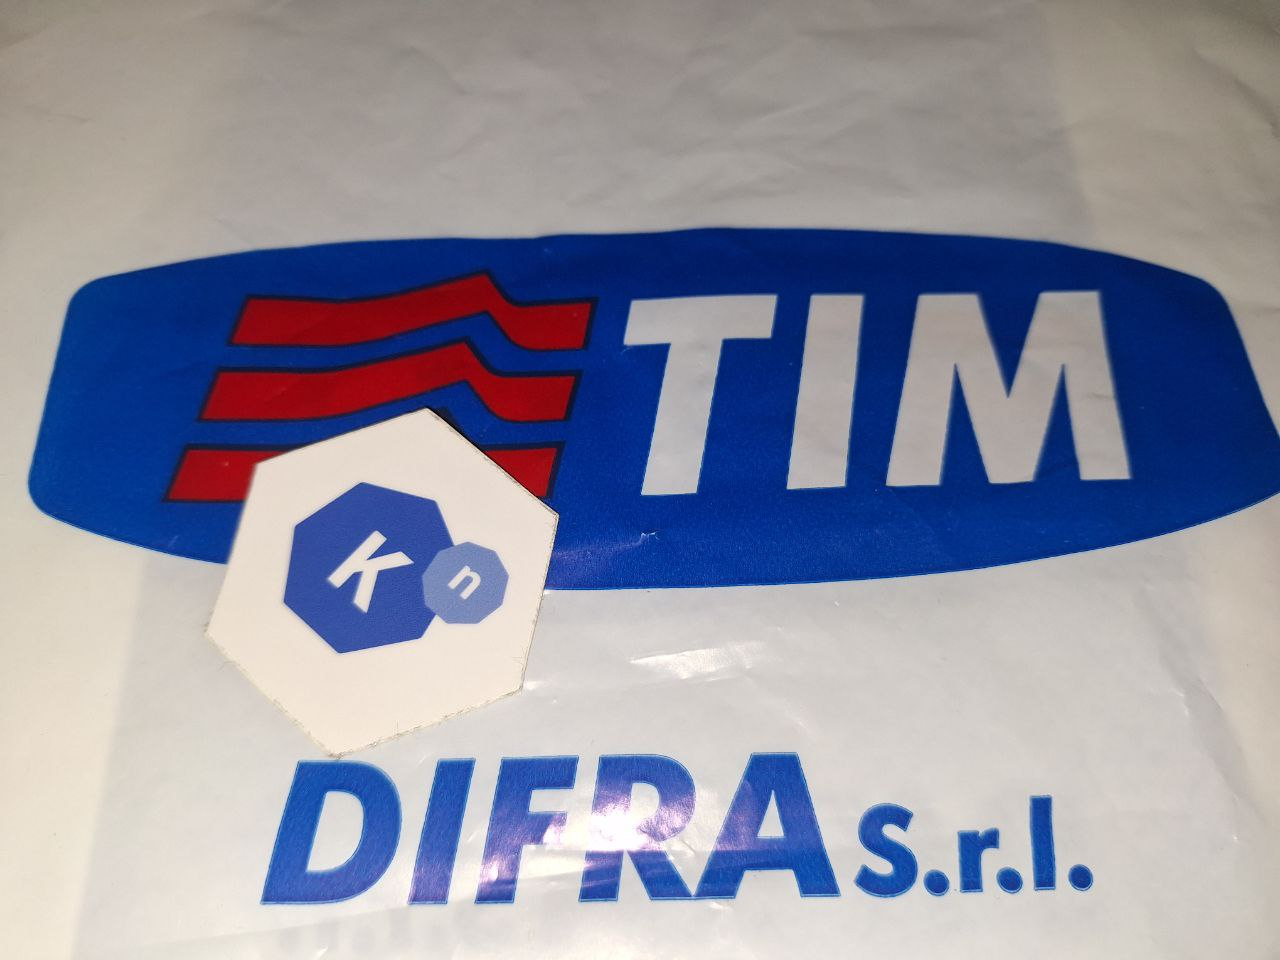knative: (280, 477, 510, 654)
